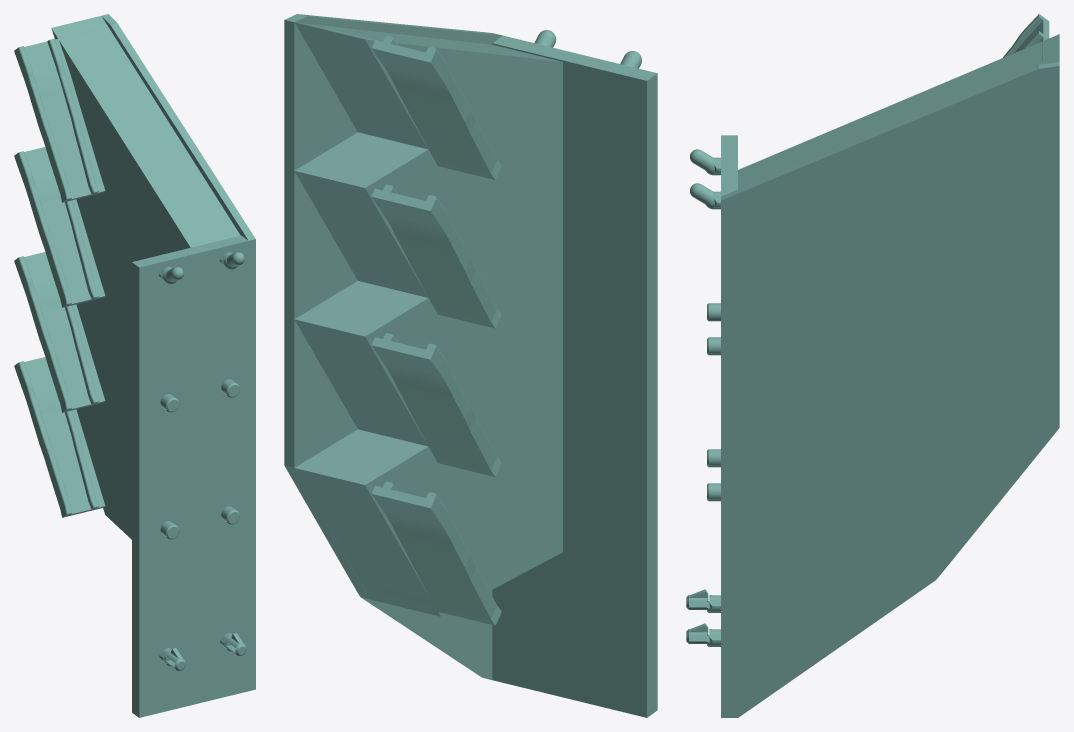
Rendered from part-solder-modules-tweezers__v9__cheek-cradle__fit-pf02c9-latch__empty.glb.
3 views of the same model, side by side, from view 1: azimuth 30°, elevation 25°; view 2: azimuth 150°, elevation 25°; view 3: azimuth 270°, elevation 25° (orthographic). The views are drawn at different scales.
Parts seen in each view (by area): view 1: holder; view 2: holder; view 3: holder.
Boxes of the visible parts, x1=… form: holder: x1=14, y1=14, x2=255, y2=717; holder: x1=284, y1=14, x2=657, y2=717; holder: x1=686, y1=14, x2=1059, y2=717.
Size of the model in its own units: 0.0488 by 0.227 by 0.1178.
